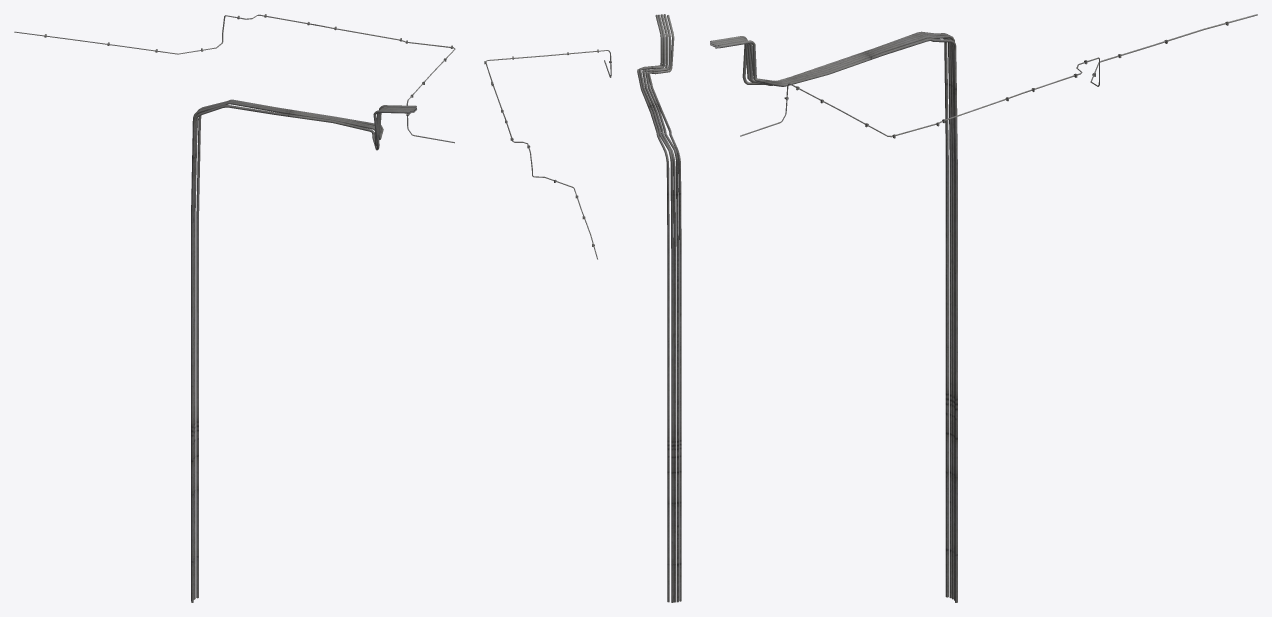
3 views of the same model, side by side, from view 1: azimuth 30°, elevation 25°; view 2: azimuth 150°, elevation 25°; view 3: azimuth 270°, elevation 25° (orthographic). The views are drawn at different scales.
Parts seen in each view (by area): view 1: Cube.060; view 2: Cube.060; view 3: Cube.060.
Boxes of the visible parts, box(x1,y1,x2,y2) form: Cube.060: box(14, 14, 455, 602); Cube.060: box(484, 14, 681, 602); Cube.060: box(710, 14, 1257, 602).
Bounding box in the file's own units: 1467 × 2679 × 2139.
